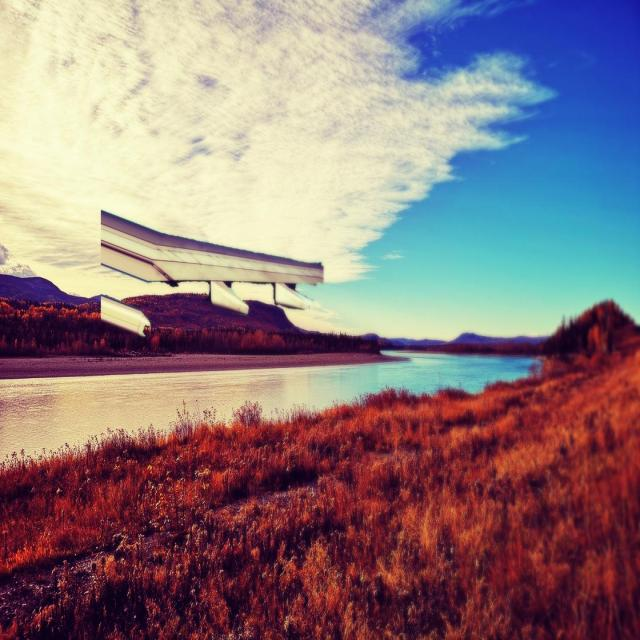airplane: (98, 208, 325, 332)
